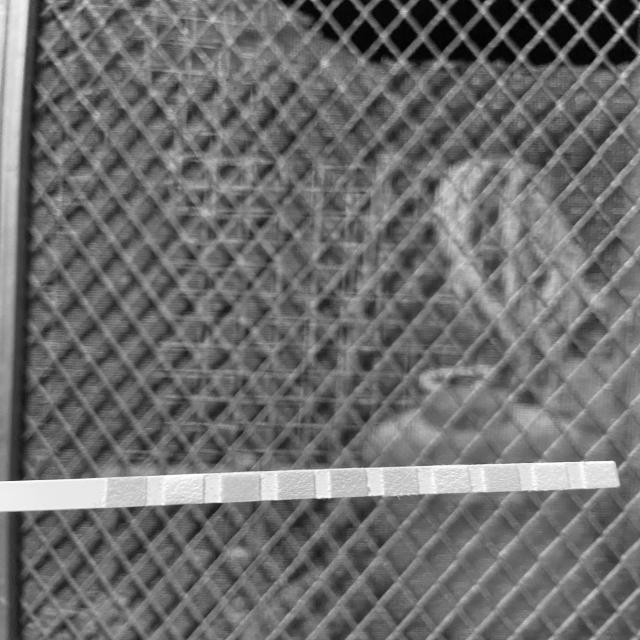Bilirubin: (168, 476, 203, 503)
Blood: (332, 471, 366, 496)
Glucose: (109, 479, 145, 506)
Ketone: (224, 474, 258, 501)
Leukocytes: (585, 464, 615, 487)
Nitrite: (536, 465, 567, 489)
Protein: (436, 467, 469, 492)
SpGravity: (280, 473, 315, 499)
Urobilinogen: (486, 467, 518, 490)
background: (0, 0, 640, 640)
pH: (386, 470, 418, 493)
strip: (1, 461, 621, 512)
